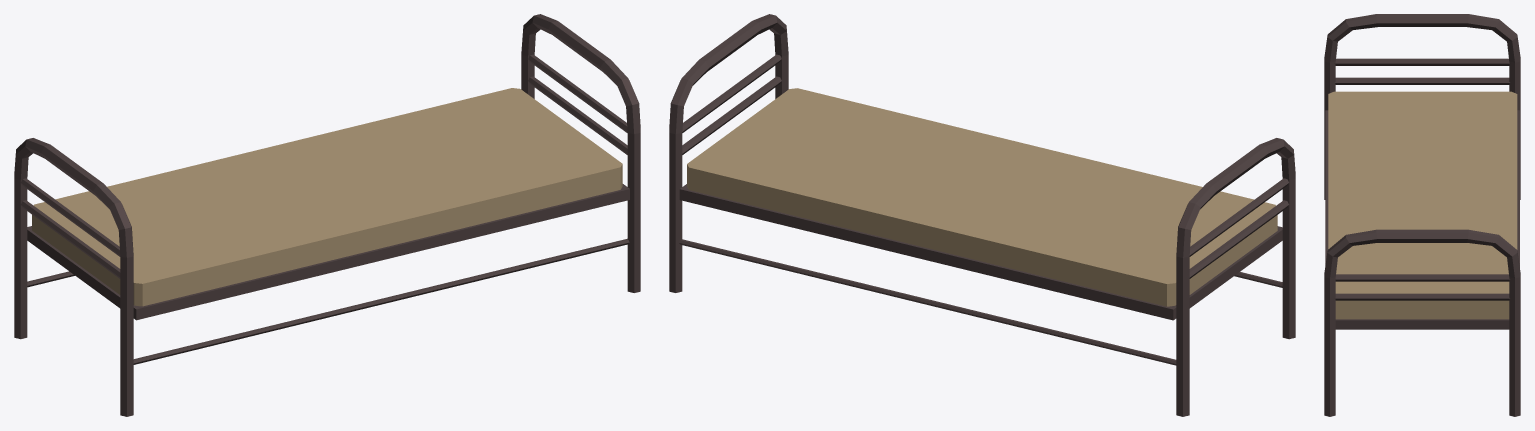
Rendered from Camilla_y_ Colchon.fbx.
3 views of the same model, side by side, from view 1: azimuth 30°, elevation 25°; view 2: azimuth 150°, elevation 25°; view 3: azimuth 270°, elevation 25° (orthographic). The views are drawn at different scales.
Parts seen in each view (by area): view 1: pCube15; view 2: pCube15; view 3: pCube15.
Boxes of the visible parts, bbox=[...] form: pCube15: bbox=[14, 14, 640, 416]; pCube15: bbox=[669, 14, 1295, 416]; pCube15: bbox=[1324, 14, 1520, 416].
Size of the model in its own units: 8.64 by 3.33 by 3.24.
